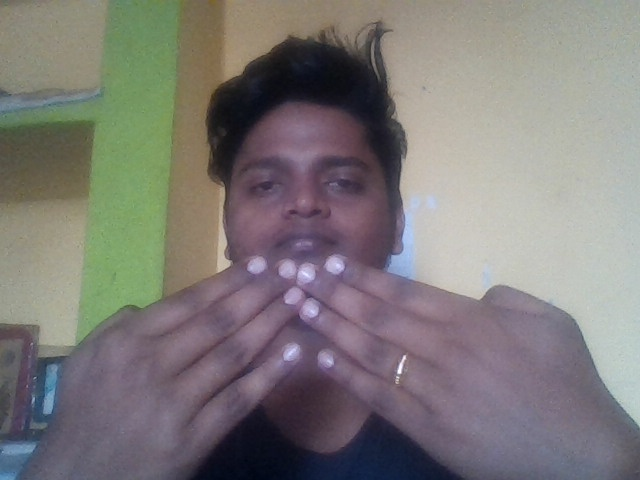thanks: (17, 233, 637, 480)
